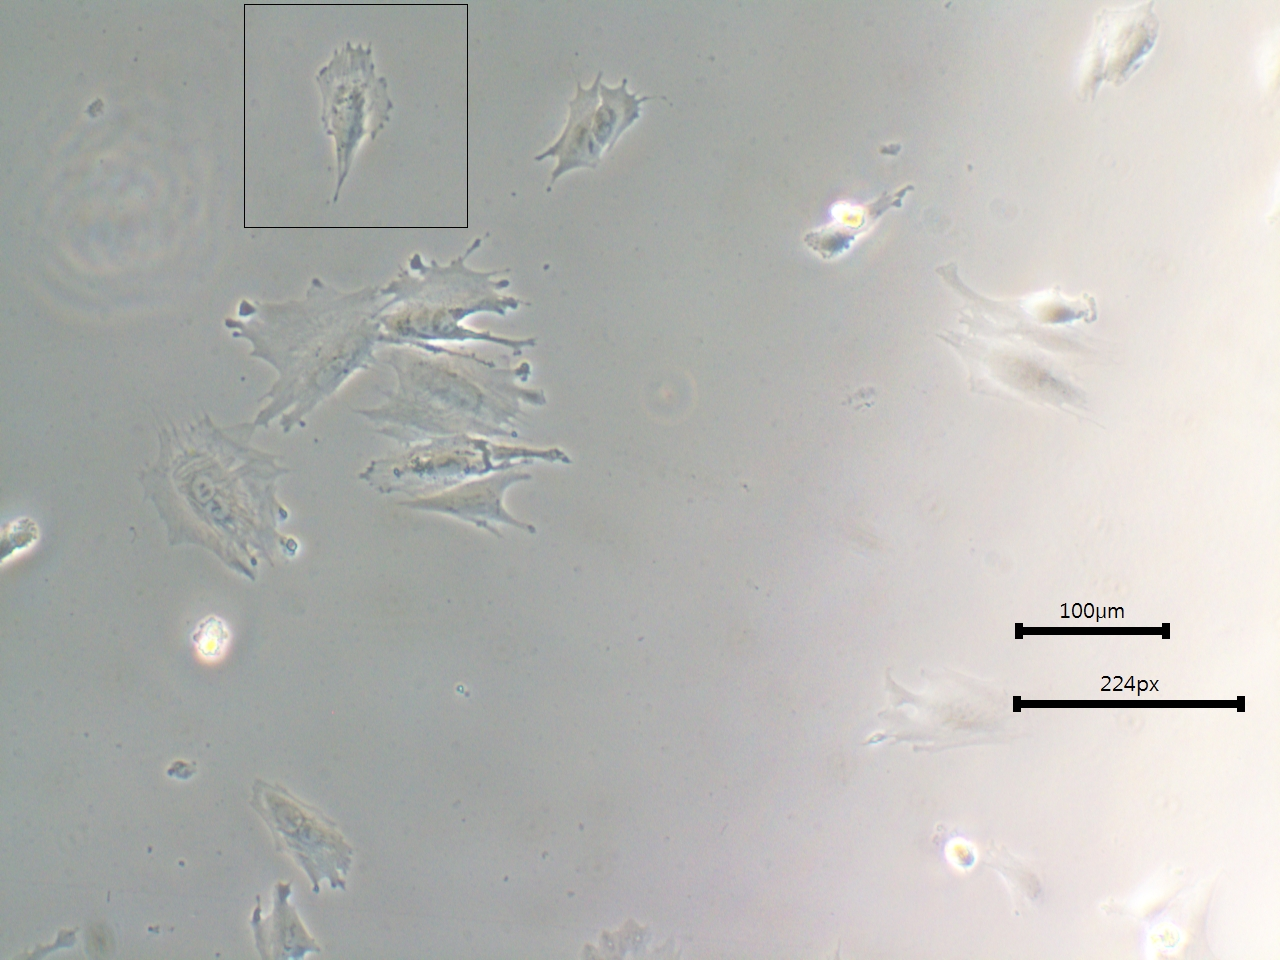dividing: (530, 65, 661, 201), (249, 779, 360, 892)
medium-spread: (863, 654, 1040, 771)
small-polygonal: (793, 178, 912, 281)
